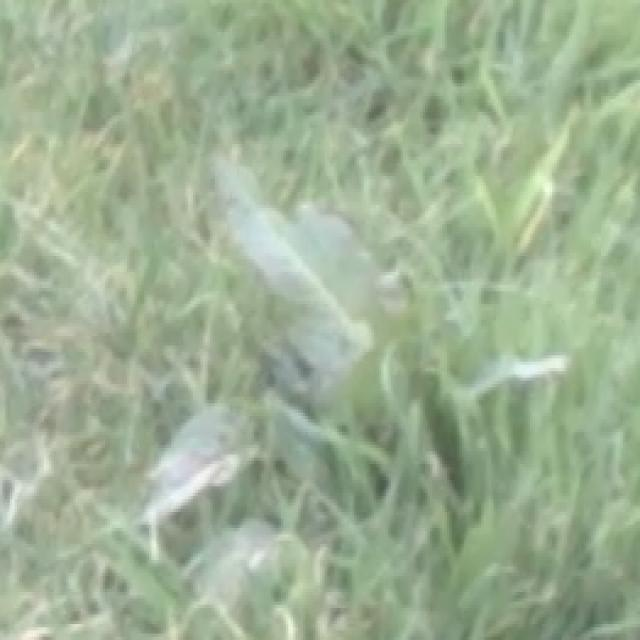organic waste: (104, 146, 552, 582)
